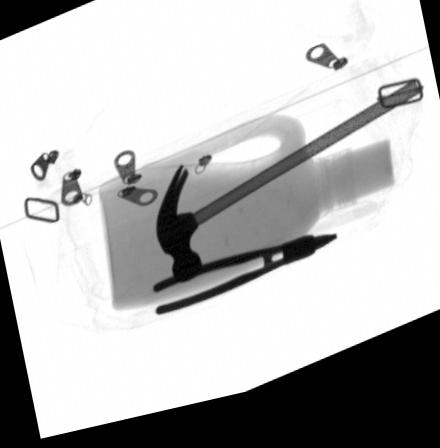Hammer: (152, 98, 418, 290)
Pliers: (151, 246, 335, 324)
